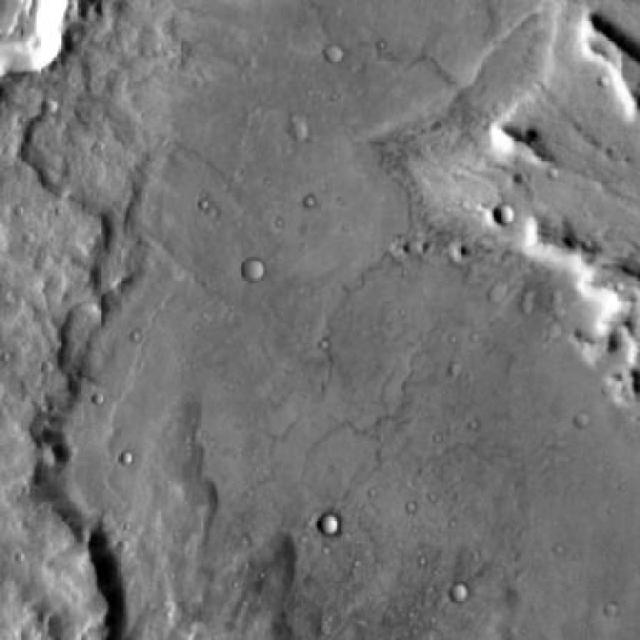crater: (81, 211, 640, 640), (243, 261, 266, 284), (316, 512, 339, 534), (291, 120, 311, 138), (324, 45, 342, 63), (494, 206, 512, 223), (449, 586, 466, 603), (572, 414, 588, 430)
